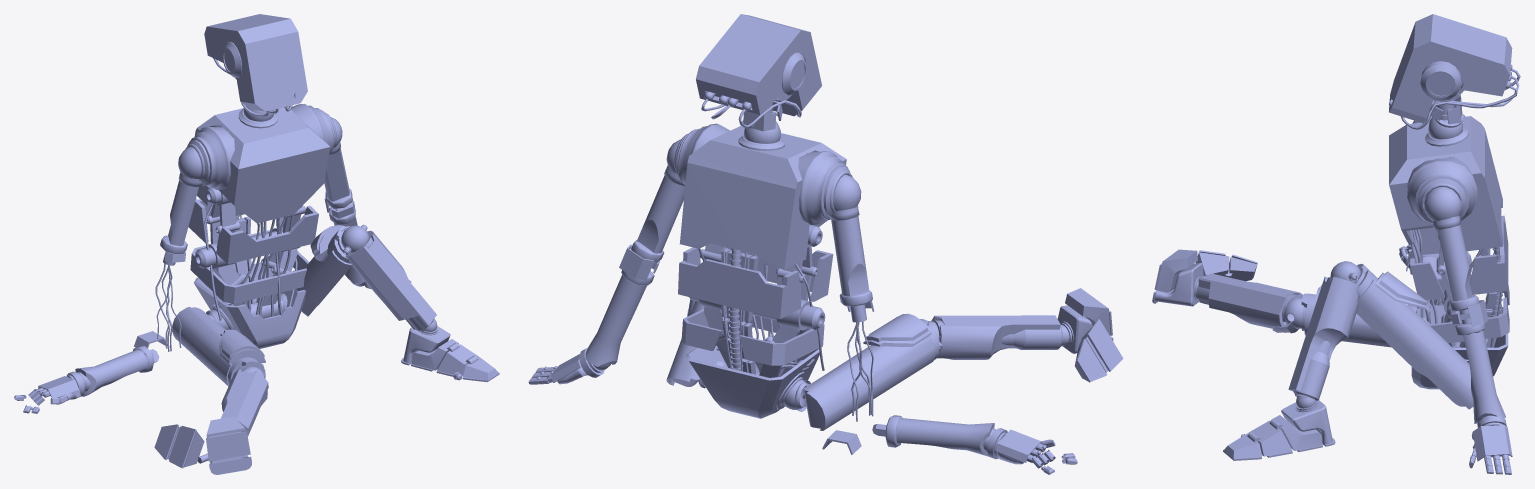
File: Роботы_002.fbx
3 views of the same model, side by side, from view 1: azimuth 30°, elevation 25°; view 2: azimuth 150°, elevation 25°; view 3: azimuth 270°, elevation 25° (orthographic). The views are drawn at different scales.
Visible parts, largest first — view 1: J4H71M_low.007; view 2: J4H71M_low.007; view 3: J4H71M_low.007.
Part boxes in pixels (x1=…): J4H71M_low.007: x1=14, y1=14, x2=499, y2=474; J4H71M_low.007: x1=528, y1=14, x2=1123, y2=474; J4H71M_low.007: x1=1152, y1=14, x2=1520, y2=474.
Size of the model in its own units: 1.47 by 1.08 by 1.
